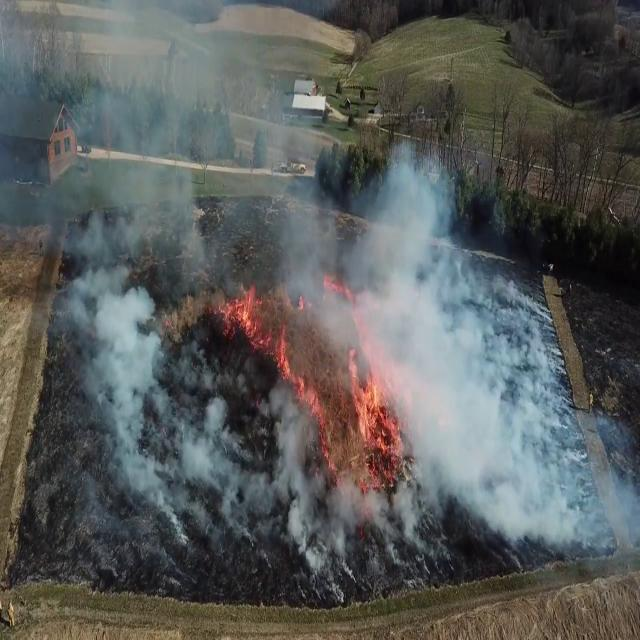Fire: (228, 280, 317, 410), (348, 356, 408, 468)
Smoke: (22, 8, 384, 588), (370, 150, 586, 543)
